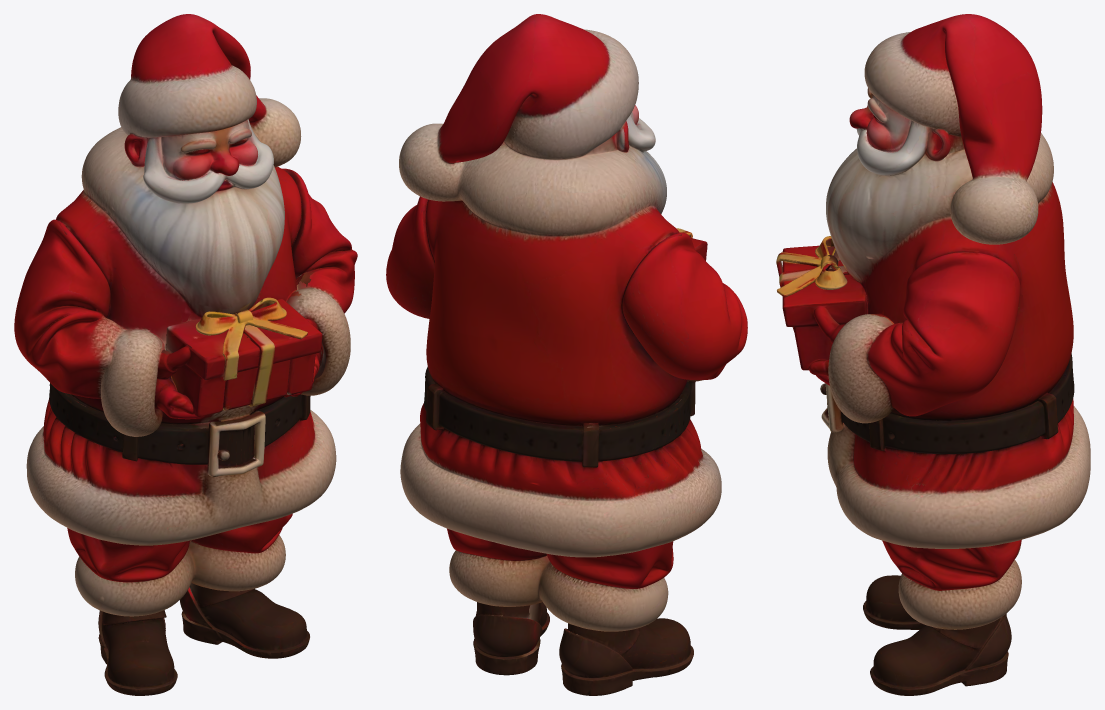
Rendered from ong-gia-noel-om-qua.glb.
The picture shows the model from 3 angles, left to right: view 1: azimuth 30°, elevation 25°; view 2: azimuth 150°, elevation 25°; view 3: azimuth 270°, elevation 25°; orthographic projection. The views are drawn at different scales.
Visible parts, largest first — view 1: texture_pbr_v128; view 2: texture_pbr_v128; view 3: texture_pbr_v128.
Boxes of the visible parts, box(x1,y1,x2,y2) form: texture_pbr_v128: box(14, 14, 357, 695); texture_pbr_v128: box(386, 14, 747, 695); texture_pbr_v128: box(776, 14, 1090, 695).
Bounding box in the file's own units: 0.6331 × 1.14 × 0.5081.
1 material, 1 textured.
